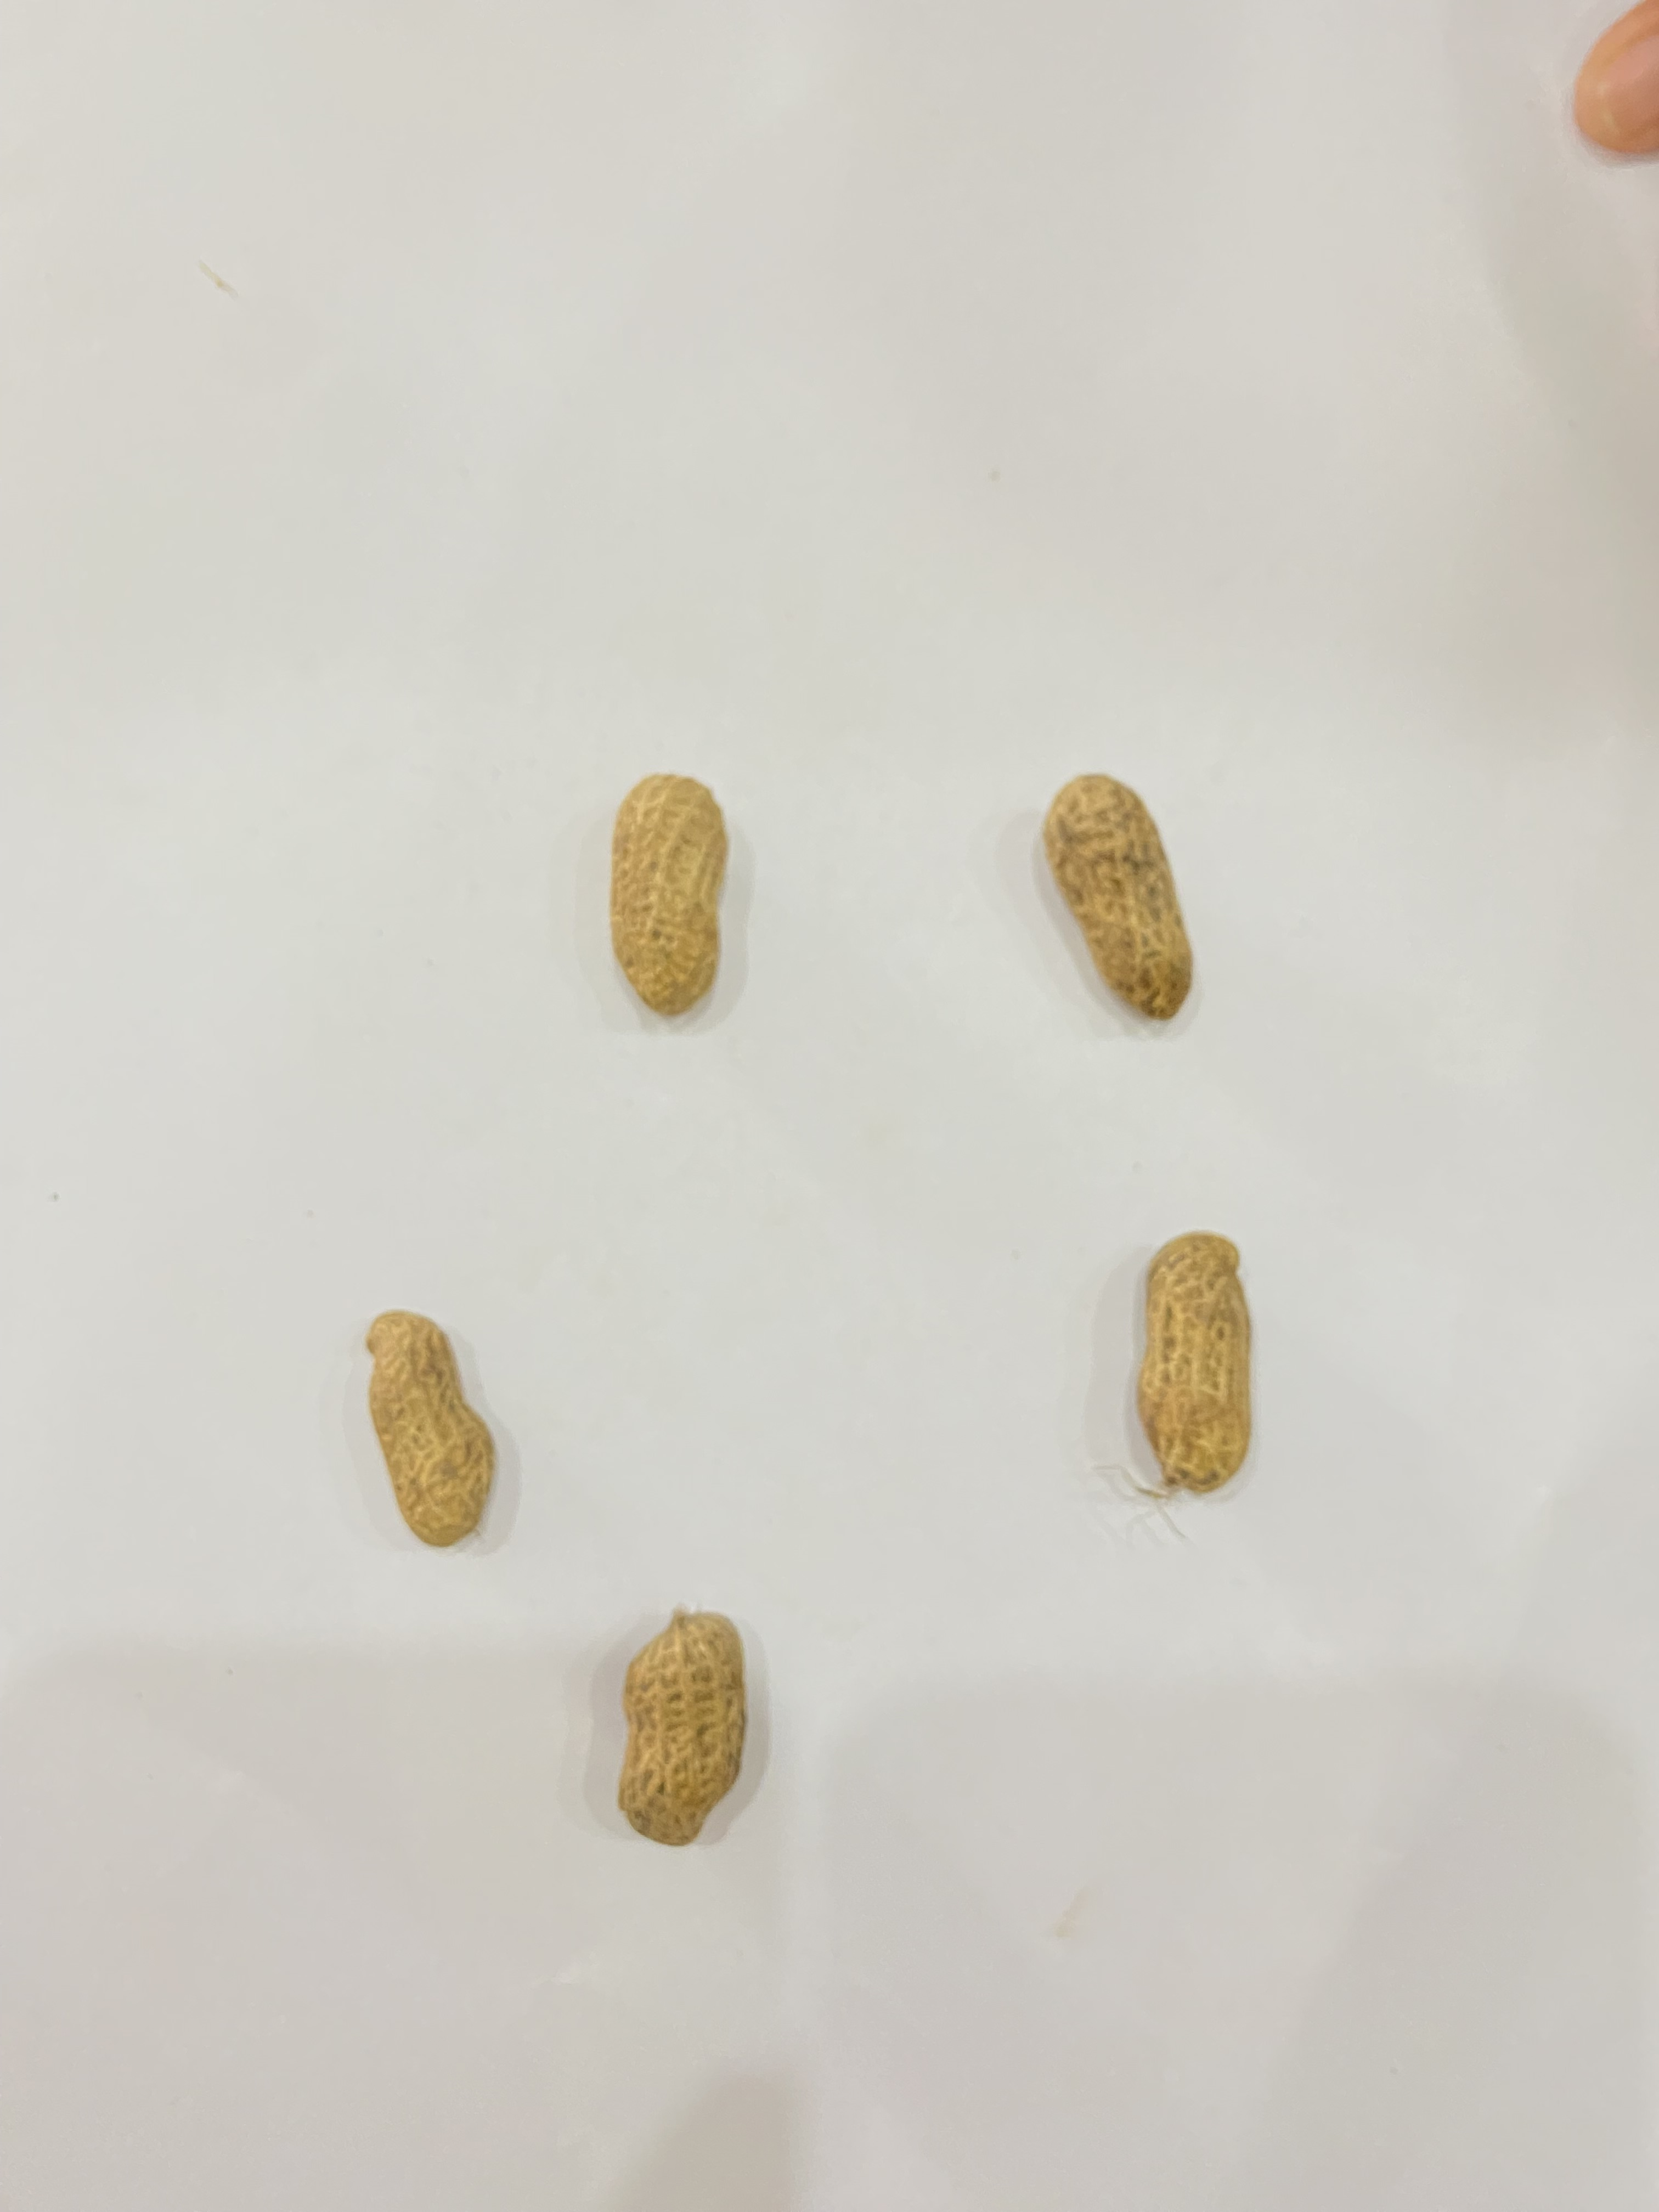kacang1: (608, 1576, 803, 1871)
kacang2: (1026, 735, 1243, 1038), (1122, 1212, 1310, 1524), (577, 766, 769, 1014), (349, 1308, 526, 1548)
